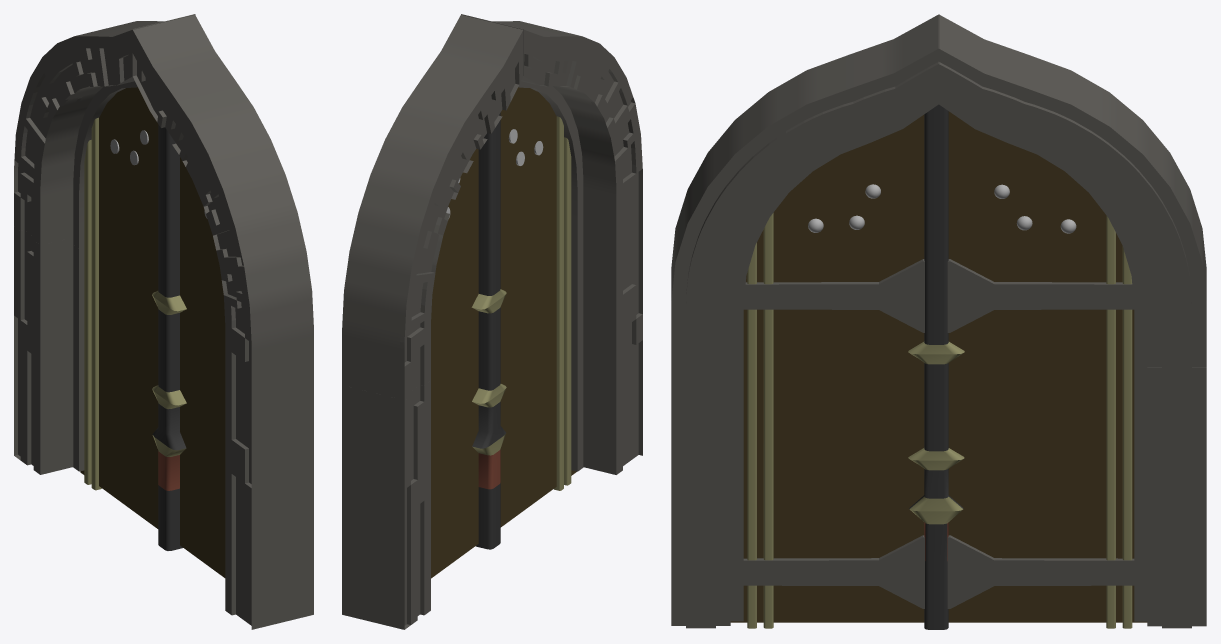
File: Final_door.fbx
The picture shows the model from 3 angles, left to right: view 1: azimuth 30°, elevation 25°; view 2: azimuth 150°, elevation 25°; view 3: azimuth 270°, elevation 25°; orthographic projection. The views are drawn at different scales.
Visible parts, largest first — view 1: pCube54; view 2: pCube54; view 3: pCube54.
Boxes of the visible parts, bbox=[...] form: pCube54: bbox=[14, 14, 313, 629]; pCube54: bbox=[342, 14, 642, 629]; pCube54: bbox=[671, 14, 1206, 629].
Bounding box in the file's own units: 1.21 × 9.1 × 7.48.
